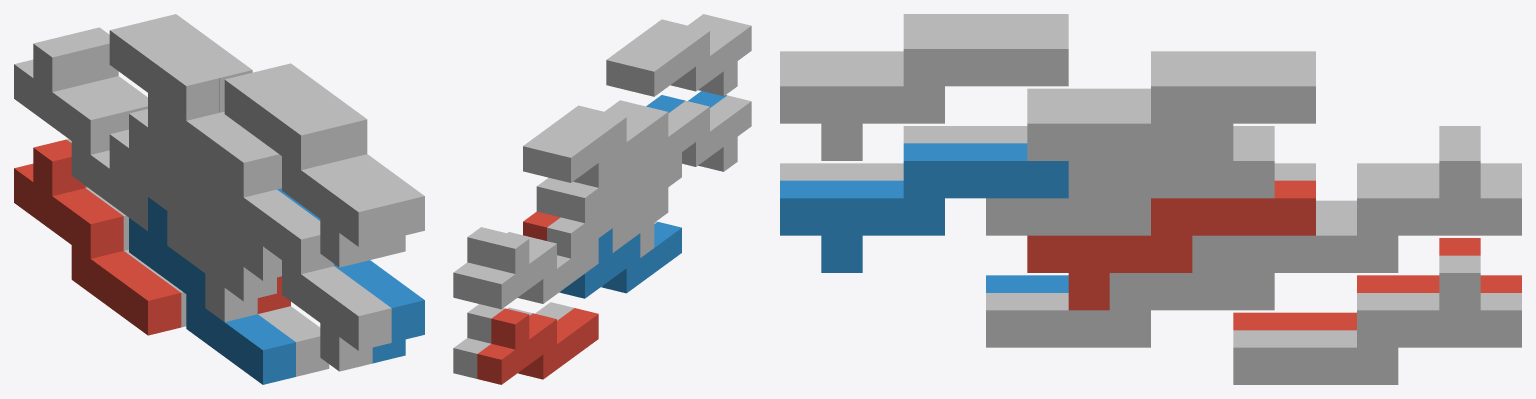
The model's file is tiling.obj.
3 renders of one model, left to right at view 1: azimuth 30°, elevation 25°; view 2: azimuth 150°, elevation 25°; view 3: azimuth 270°, elevation 25°, orthographic. The views are drawn at different scales.
Parts seen in each view (by area): view 1: copy_2_domain_4, copy_1_domain_1, copy_2_domain_3, copy_2_domain_2, copy_1_domain_3, copy_1_domain_2, copy_2_domain_1, copy_2_domain_8, copy_1_domain_4, copy_2_domain_6, copy_2_domain_7, copy_1_domain_7 (+3 smaller); view 2: copy_1_domain_1, copy_2_domain_4, copy_1_domain_3, copy_2_domain_3, copy_2_domain_2, copy_1_domain_4, copy_1_domain_2, copy_2_domain_1, copy_2_domain_8, copy_1_domain_5, copy_2_domain_7, copy_1_domain_7 (+3 smaller); view 3: copy_2_domain_8, copy_2_domain_7, copy_1_domain_5, copy_2_domain_6, copy_1_domain_7, copy_1_domain_6, copy_2_domain_5, copy_1_domain_8, copy_1_domain_1, copy_2_domain_4, copy_2_domain_3, copy_2_domain_2 (+4 smaller).
Part boxes in pixels (<box>): copy_2_domain_4: <box>224,71,391,267</box>; copy_1_domain_1: <box>14,139,181,335</box>; copy_2_domain_3: <box>109,22,276,217</box>; copy_2_domain_2: <box>224,184,391,371</box>; copy_1_domain_3: <box>14,35,147,230</box>; copy_1_domain_2: <box>129,197,295,384</box>; copy_2_domain_1: <box>109,129,276,322</box>; copy_2_domain_8: <box>258,63,424,259</box>; copy_1_domain_4: <box>129,93,281,280</box>; copy_2_domain_6: <box>277,188,424,363</box>; copy_2_domain_7: <box>143,14,281,189</box>; copy_1_domain_7: <box>67,27,147,130</box>; copy_1_domain_1: <box>477,308,598,384</box>; copy_2_domain_4: <box>630,20,751,96</box>; copy_1_domain_3: <box>477,233,598,309</box>; copy_2_domain_3: <box>547,106,668,182</box>; copy_2_domain_2: <box>654,95,751,171</box>; copy_1_domain_4: <box>560,152,681,223</box>; copy_1_domain_2: <box>560,222,681,298</box>; copy_2_domain_1: <box>547,188,668,258</box>; copy_2_domain_8: <box>606,14,726,90</box>; copy_1_domain_5: <box>453,302,573,378</box>; copy_2_domain_7: <box>523,100,643,176</box>; copy_1_domain_7: <box>453,227,532,303</box>; copy_2_domain_8: <box>780,31,1068,160</box>; copy_2_domain_7: <box>1027,68,1315,198</box>; copy_1_domain_5: <box>1233,255,1521,384</box>; copy_2_domain_6: <box>780,143,1068,272</box>; copy_1_domain_7: <box>1233,143,1521,272</box>; copy_1_domain_6: <box>986,235,1274,347</box>; copy_2_domain_5: <box>1027,180,1315,310</box>; copy_1_domain_8: <box>986,123,1274,235</box>; copy_1_domain_1: <box>1233,238,1521,330</box>; copy_2_domain_4: <box>780,14,1068,68</box>; copy_2_domain_3: <box>1027,51,1315,105</box>; copy_2_domain_2: <box>780,126,1027,180</box>.
Size of the model in its own units: 2 by 9 by 18.
